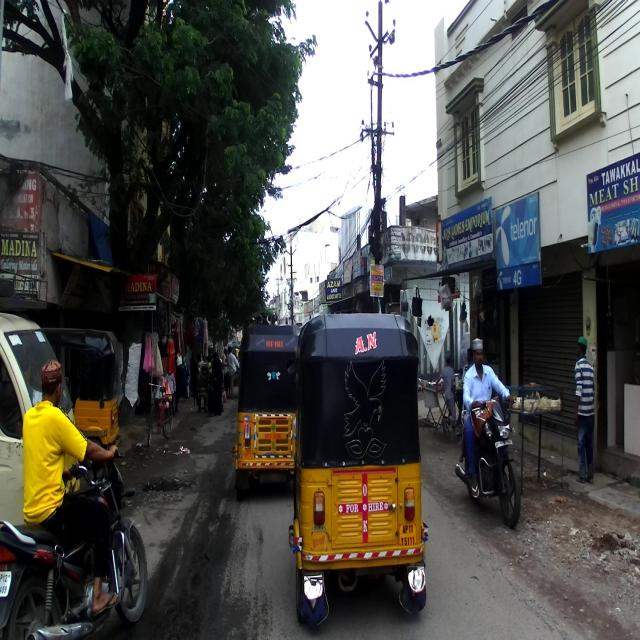autorickshaw: (287, 311, 429, 630), (231, 324, 302, 501), (40, 324, 118, 451)
motorcycle_Honda: (0, 445, 149, 639), (455, 394, 522, 528)
